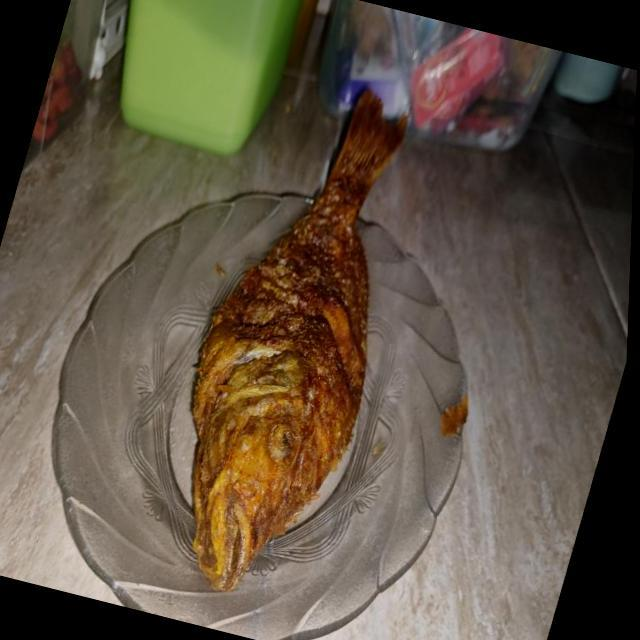ikan_mujair: (192, 90, 406, 590)
